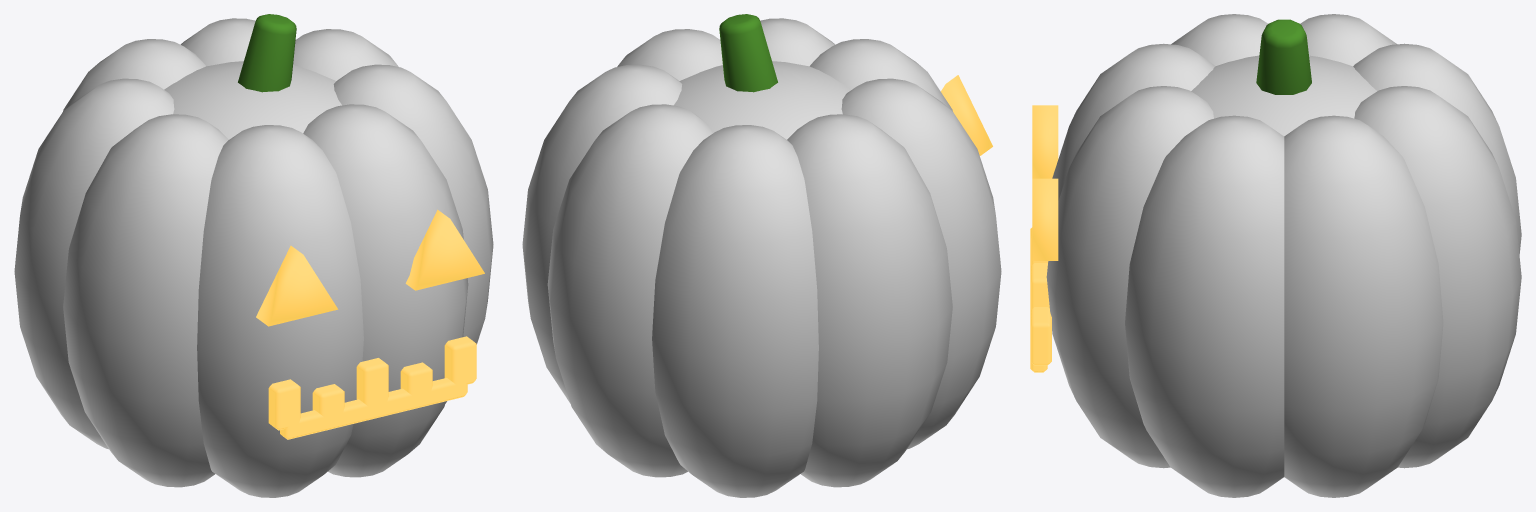
Rendered from pumpkin.glb.
The picture shows the model from 3 angles, left to right: view 1: azimuth 30°, elevation 25°; view 2: azimuth 150°, elevation 25°; view 3: azimuth 270°, elevation 25°; orthographic projection. The views are drawn at different scales.
Parts seen in each view (by area): view 1: Tint_Lobe.005, Tint_Lobe.004, Tint_Lobe.006, Tint_Lobe.003, Tint_Lobe.007, Tint_Core, Tint_Lobe.002, Stem, Eye, Eye.001, Tint_Lobe, Mouth (+6 smaller); view 2: Tint_Lobe.002, Tint_Lobe.003, Tint_Lobe.001, Tint_Lobe.004, Tint_Lobe, Tint_Core, Tint_Lobe.005, Stem, Tint_Lobe.007, Tint_Lobe.006, Eye; view 3: Tint_Lobe.007, Tint_Lobe, Tint_Lobe.001, Tint_Lobe.006, Tint_Core, Tint_Lobe.002, Tint_Lobe.005, Stem, Tint_Lobe.003, Tint_Lobe.004, Eye.001, Eye (+2 smaller).
Boxes of the visible parts, x1,y1,x2,y2 form: Tint_Lobe.005: (197, 125, 363, 497); Tint_Lobe.004: (63, 114, 228, 487); Tint_Lobe.006: (303, 104, 468, 477); Tint_Lobe.003: (14, 78, 174, 449); Tint_Lobe.007: (333, 64, 493, 403); Tint_Core: (164, 61, 341, 139); Tint_Lobe.002: (63, 39, 205, 111); Stem: (238, 14, 296, 92); Eye: (256, 245, 338, 326); Eye.001: (405, 209, 484, 290); Tint_Lobe: (293, 29, 398, 80); Mouth: (280, 378, 467, 439); Tint_Lobe.002: (652, 125, 818, 497); Tint_Lobe.003: (787, 114, 952, 487); Tint_Lobe.001: (547, 104, 712, 477); Tint_Lobe.004: (841, 78, 1001, 449); Tint_Lobe: (522, 64, 682, 403); Tint_Core: (674, 61, 851, 139); Tint_Lobe.005: (810, 39, 952, 111); Stem: (719, 14, 777, 92); Tint_Lobe.007: (617, 29, 722, 80); Tint_Lobe.006: (760, 18, 835, 66); Eye: (941, 75, 992, 155); Tint_Lobe.007: (1125, 115, 1284, 497); Tint_Lobe: (1284, 115, 1443, 497); Tint_Lobe.001: (1354, 86, 1521, 468); Tint_Lobe.006: (1046, 86, 1213, 468); Tint_Core: (1191, 55, 1376, 136); Tint_Lobe.002: (1353, 43, 1521, 254); Tint_Lobe.005: (1052, 43, 1215, 200); Stem: (1256, 19, 1311, 94); Tint_Lobe.003: (1300, 14, 1396, 66); Tint_Lobe.004: (1171, 14, 1267, 66); Eye.001: (1032, 178, 1058, 260); Eye: (1032, 105, 1058, 178).
Size of the model in its own units: 1.09 by 1.08 by 1.13.
